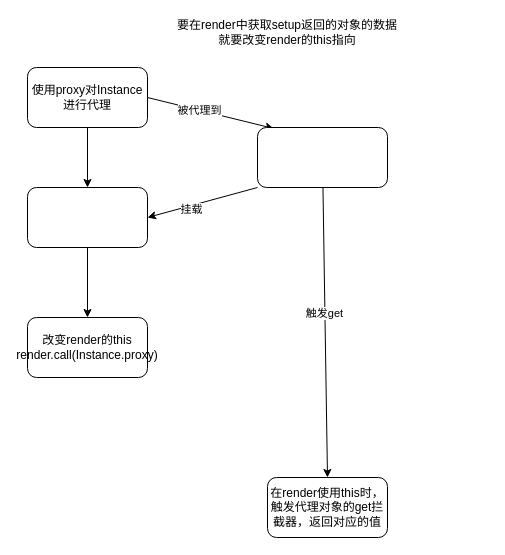
Image size: 505x555. Some labels were removed from this diagram. The centre of each missing label's shape, as x and y in pixels:
"proxy" belongs at (322,157).
"将proxy挂载到Instance上 Instance.proxy=proxy" belongs at (87,217).
